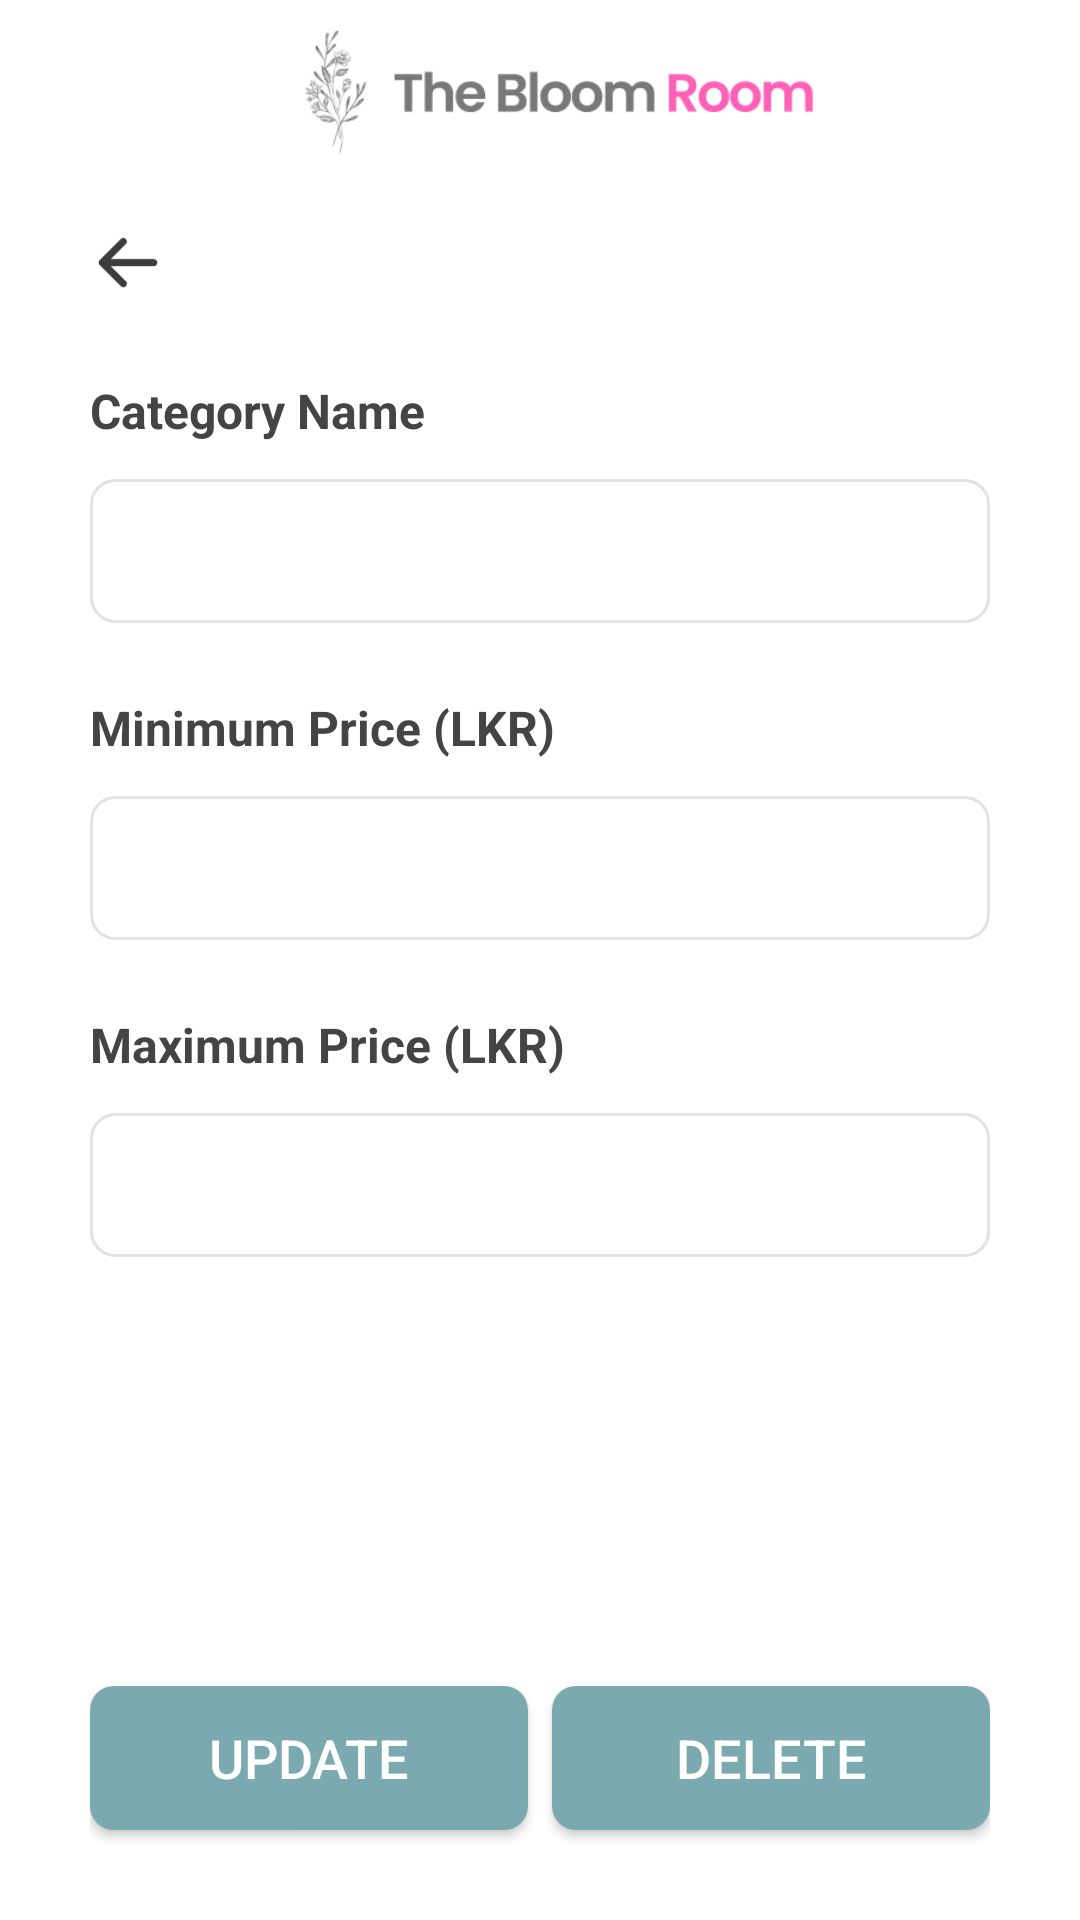

Named icons in this screenshot (1080×1920) and their centers, point (x, y):
back: point (128, 262)
